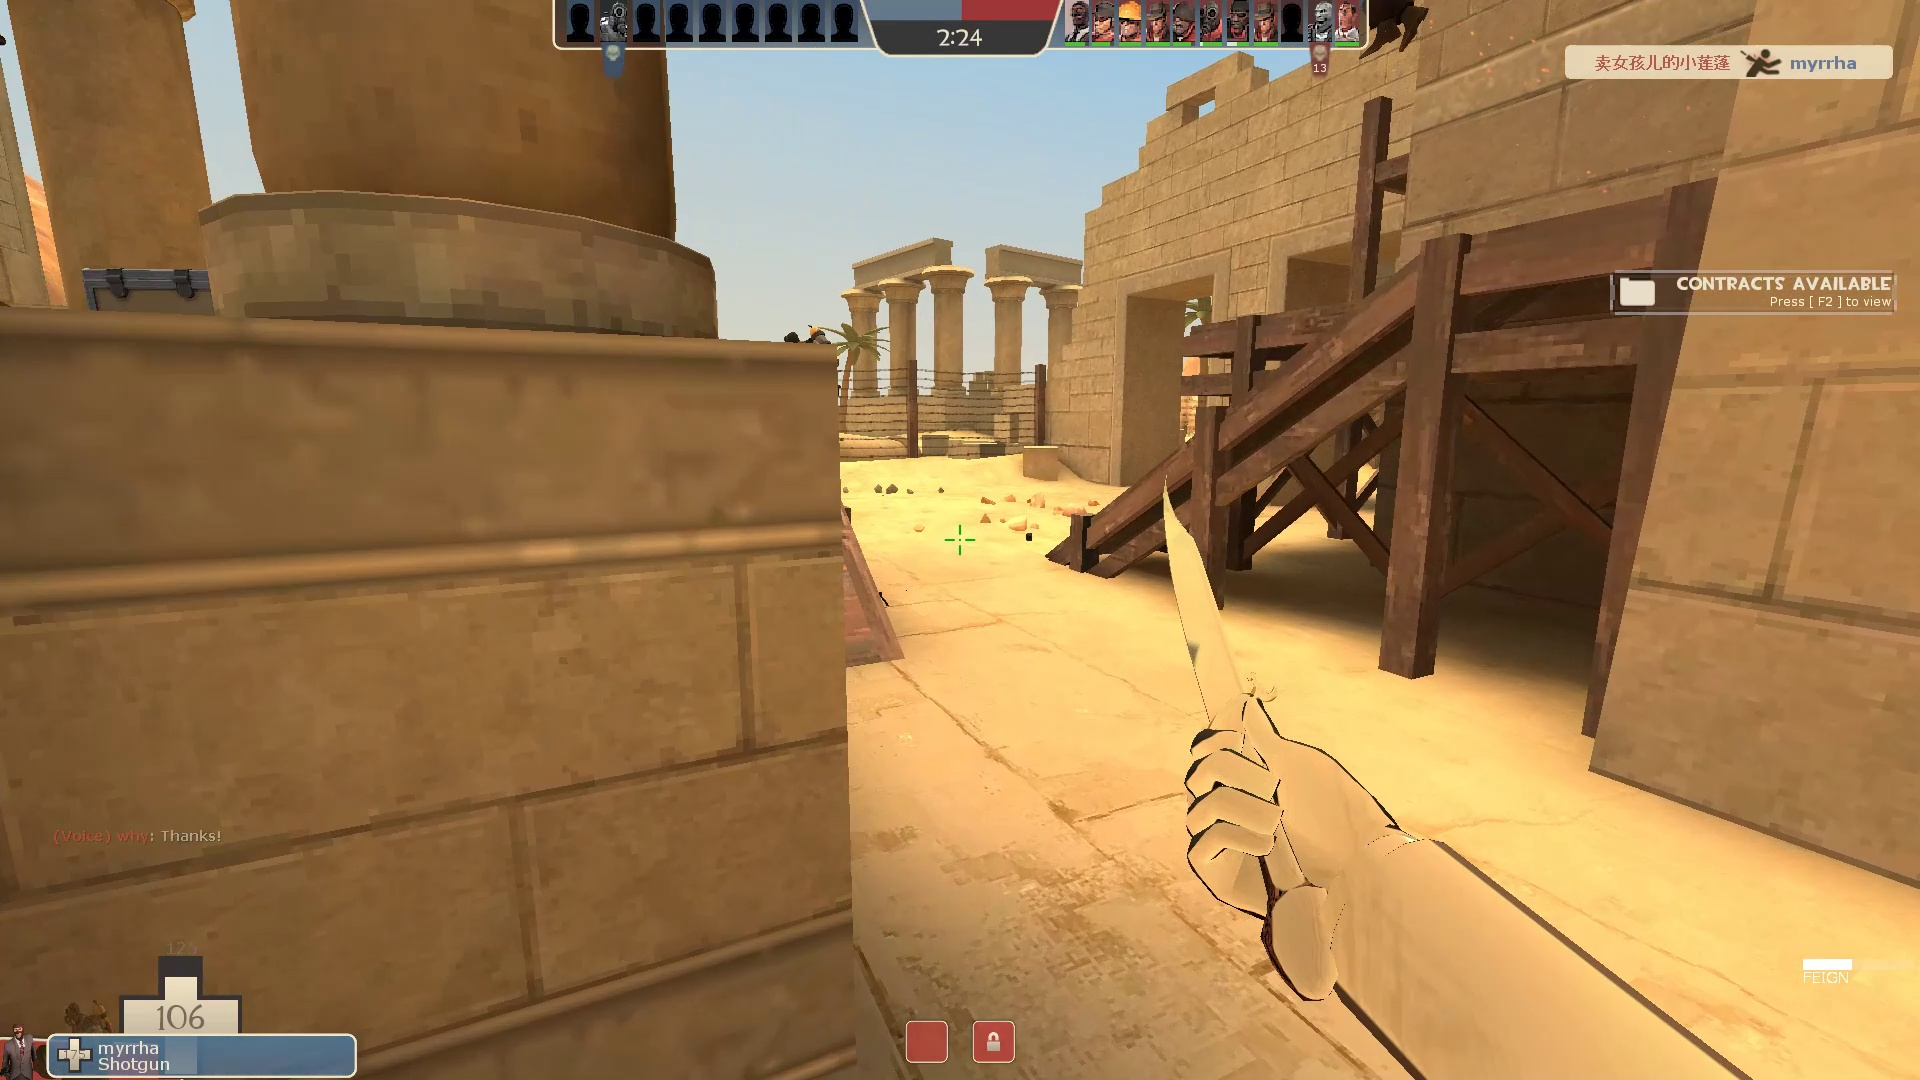red_pyro: (758, 320, 849, 440)
